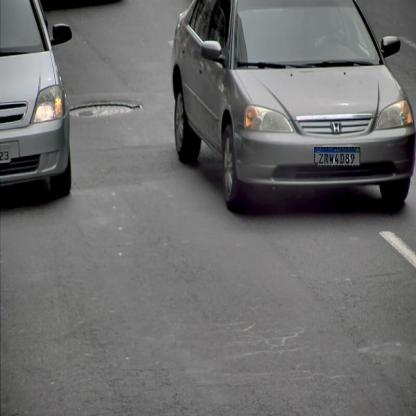PlacaM: (314, 147, 360, 166)
